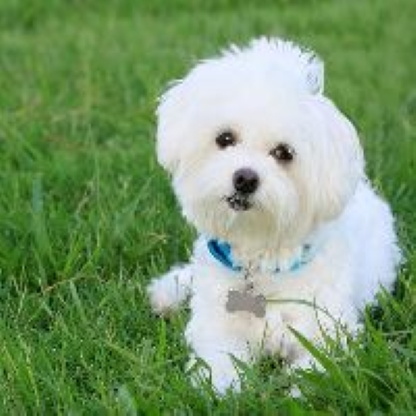maltese: (140, 34, 401, 382)
